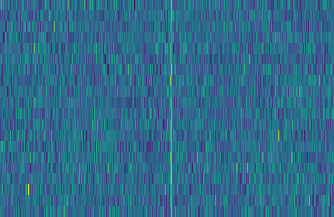signal: (166, 0, 175, 217)
